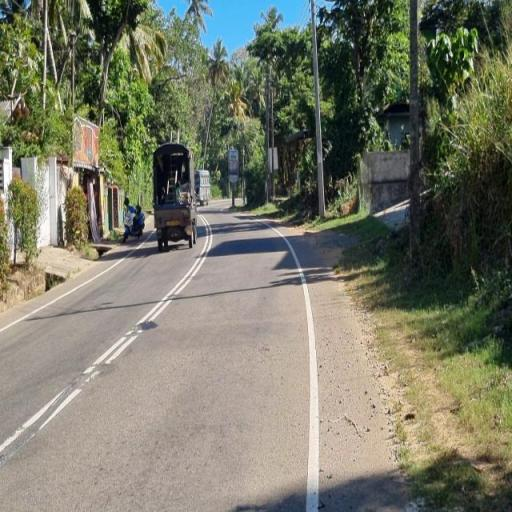double_white_line: (14, 214, 210, 388)
